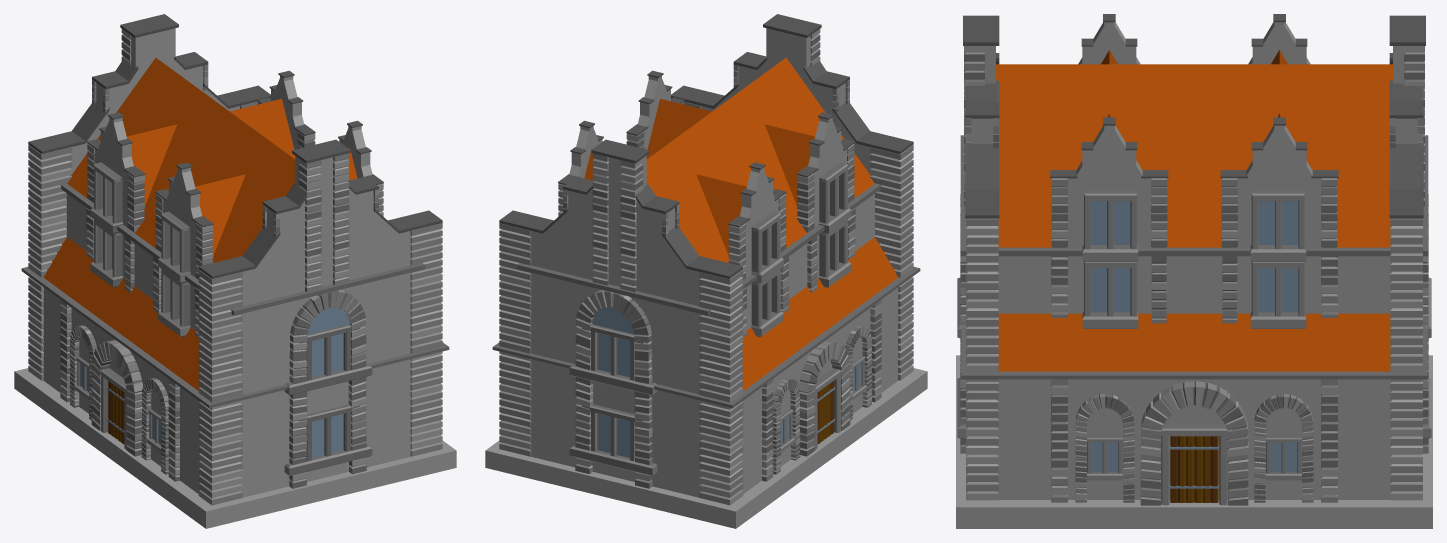
Rendered from castle_town_house_3.fbx.
3 renders of one model, left to right at view 1: azimuth 30°, elevation 25°; view 2: azimuth 150°, elevation 25°; view 3: azimuth 270°, elevation 25°, orthographic. The views are drawn at different scales.
Parts seen in each view (by area): view 1: house.002; view 2: house.002; view 3: house.002.
Part boxes in pixels (x1=…): house.002: x1=14, y1=14, x2=456, y2=528; house.002: x1=485, y1=14, x2=927, y2=528; house.002: x1=956, y1=14, x2=1432, y2=528.
Size of the model in its own units: 9998 by 9811 by 7545.
